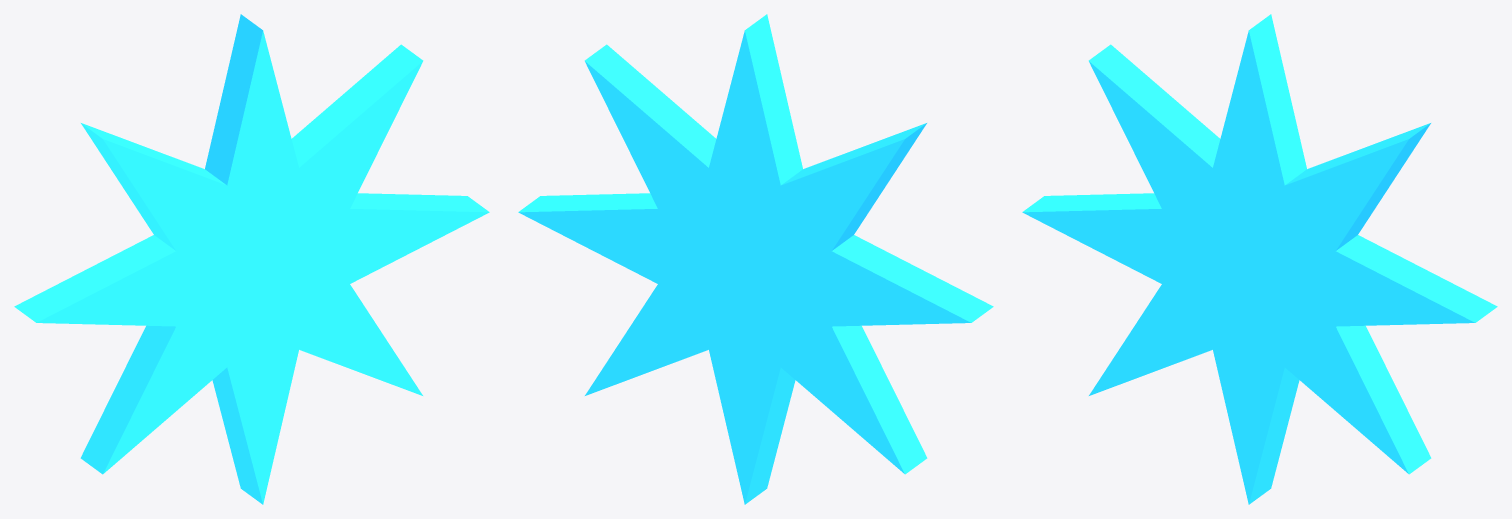
The model's file is ArcaneSigil.gltf.
3 views of the same model, side by side, from view 1: azimuth 30°, elevation 25°; view 2: azimuth 150°, elevation 25°; view 3: azimuth 330°, elevation 25° (orthographic).
Parts seen in each view (by area): view 1: ArcaneSigil; view 2: ArcaneSigil; view 3: ArcaneSigil.
Boxes of the visible parts, x1,y1,x2,y2 form: ArcaneSigil: (14,14,489,504); ArcaneSigil: (518,14,993,504); ArcaneSigil: (1022,14,1497,504).
Size of the model in its own units: 1.64 by 1.64 by 0.14.
